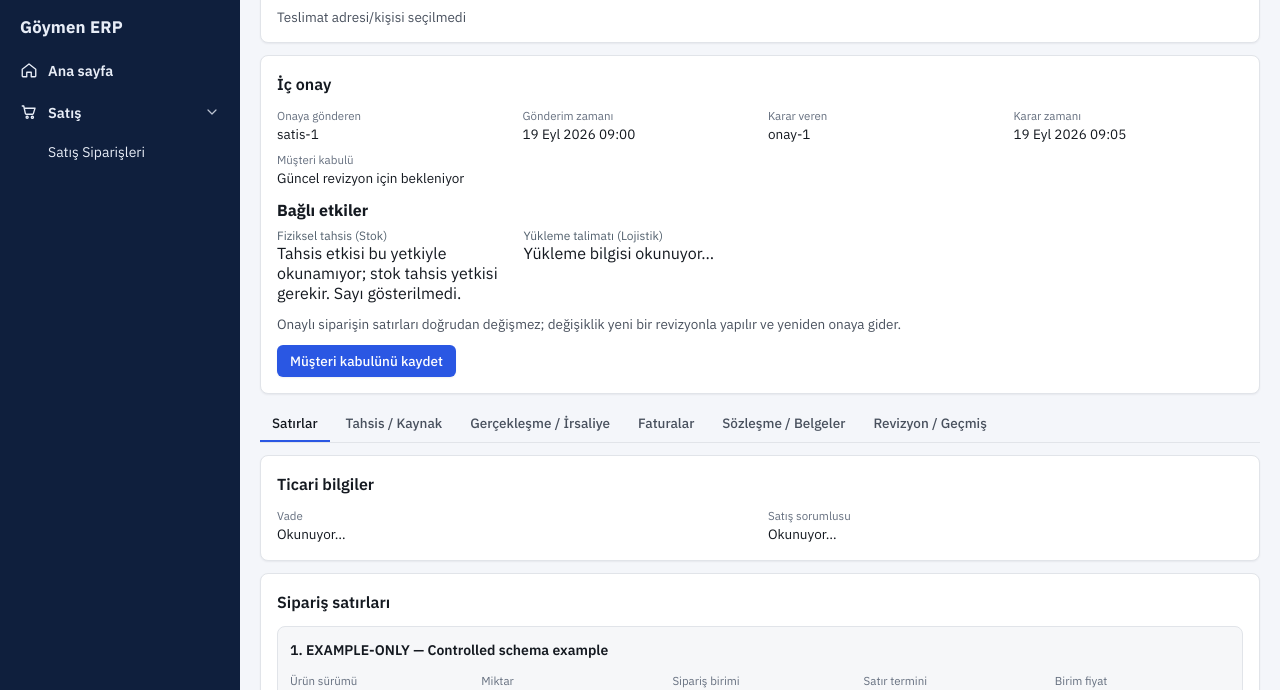
it: S-04 customer acceptance (Q9) › records the acceptance of the current revision once, with the expected version, and shows it after the re-read
(page scrolled)
Expected: the text with test id "sales-customer-acceptance-state" reads "Güncel revizyon için bekleniyor", [277,169,464,187]
Click the button "Müşteri kabulünü kaydet". click: (366, 361)
box: [277,345,456,377]
(page scrolled)
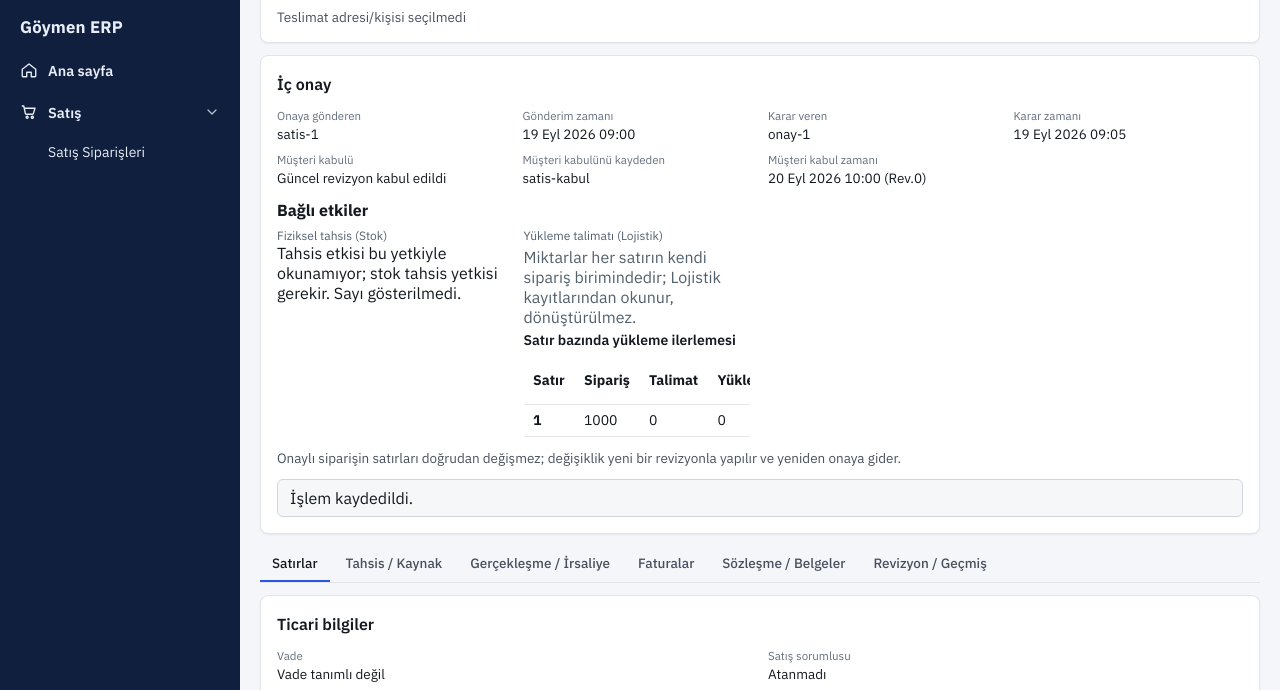
Expected: the text with test id "sales-customer-acceptance-state" reads "Güncel revizyon kabul edildi", [277,169,446,187]
Expected: the button "Müşteri kabulünü kaydet" is gone
